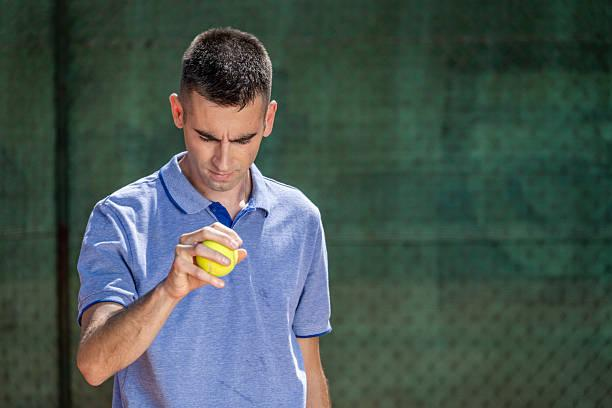ball_tennis: (197, 239, 239, 278)
